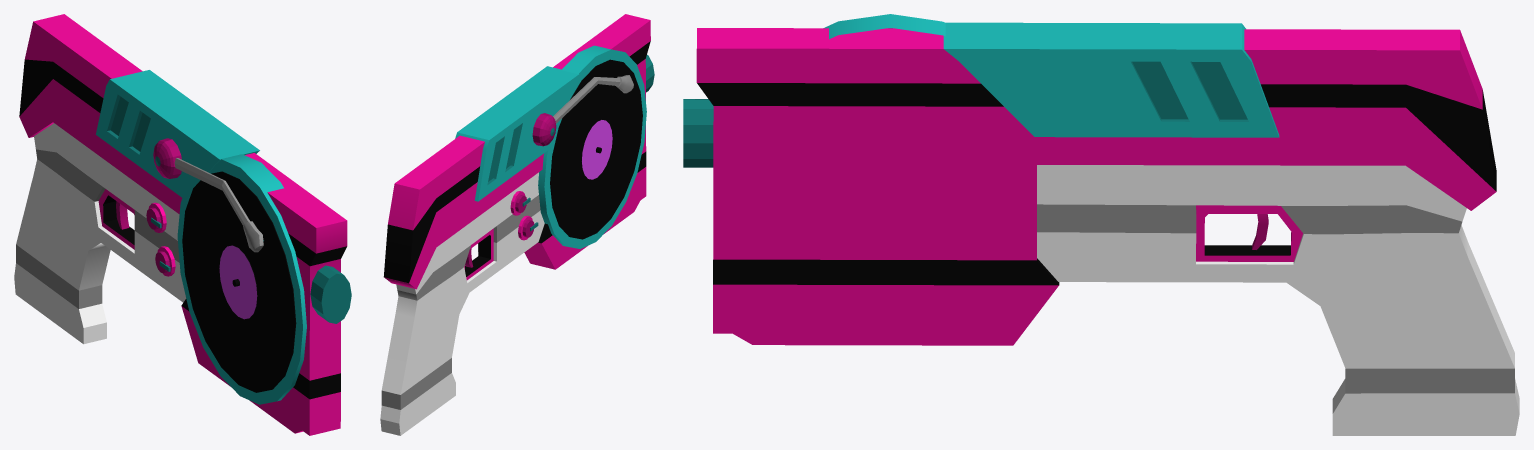
Rendered from DubstepGunColorida.fbx.
3 views of the same model, side by side, from view 1: azimuth 30°, elevation 25°; view 2: azimuth 150°, elevation 25°; view 3: azimuth 270°, elevation 25° (orthographic). The views are drawn at different scales.
Parts seen in each view (by area): view 1: DubstepGun; view 2: DubstepGun; view 3: DubstepGun.
Boxes of the visible parts, x1,y1,x2,y2 form: DubstepGun: [14, 14, 351, 435]; DubstepGun: [380, 14, 654, 435]; DubstepGun: [683, 14, 1519, 435].
Size of the model in its own units: 1.48 by 7.51 by 14.17.
1 material, 1 textured.
